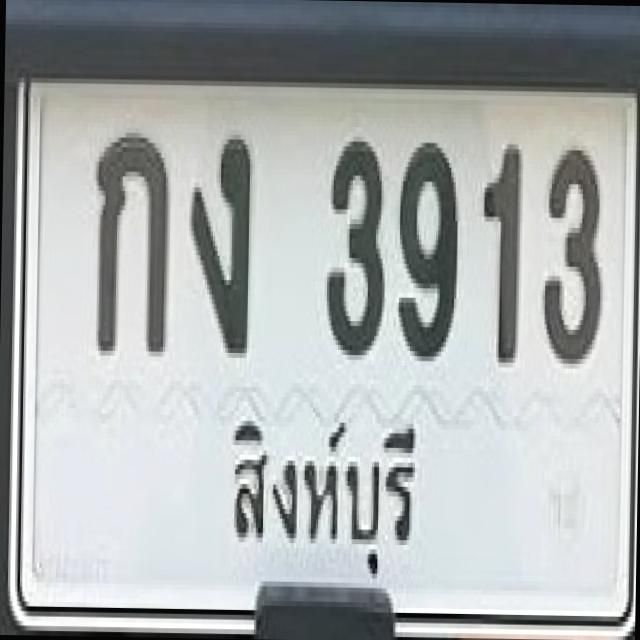license_plate: (6, 62, 640, 640)
